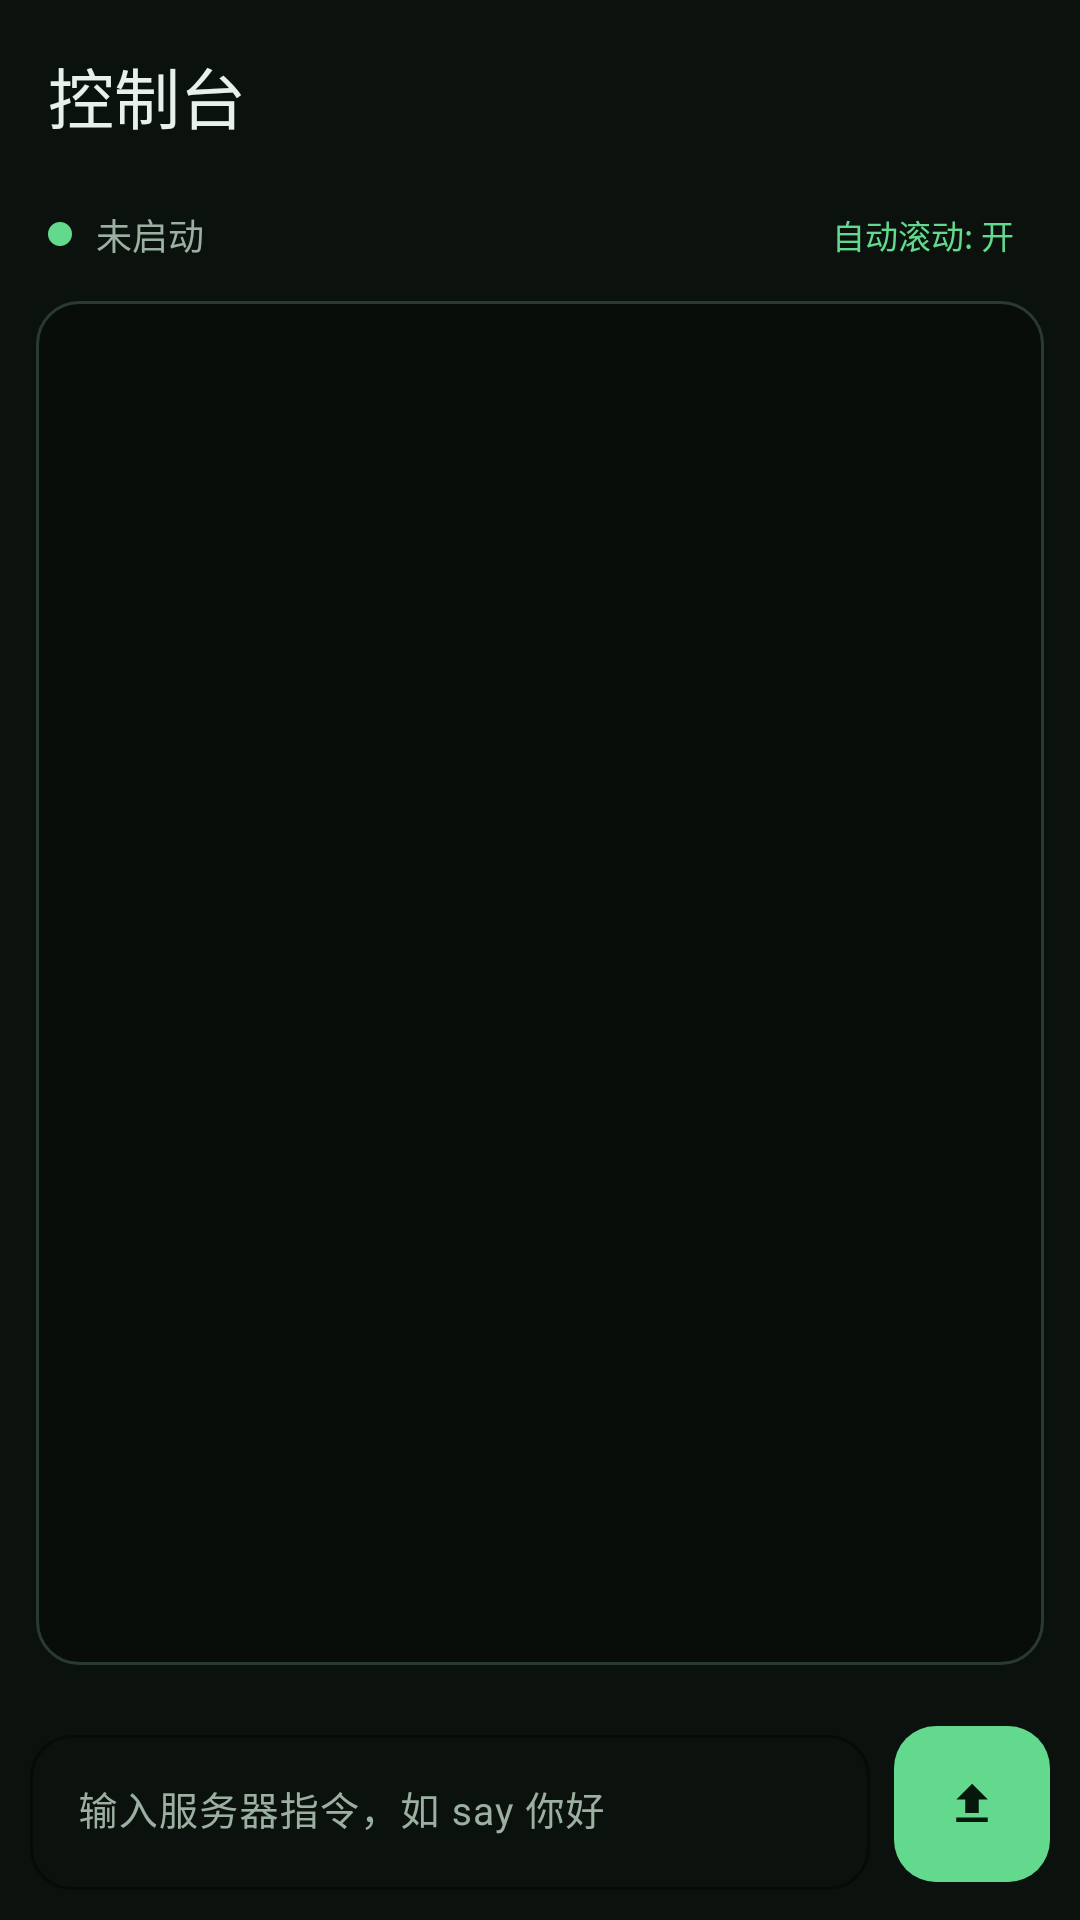

Icons on this 1080px x 1920px Android screen, each with the point to tap as (x=x, y=y):
发送: (x=972, y=1804)
